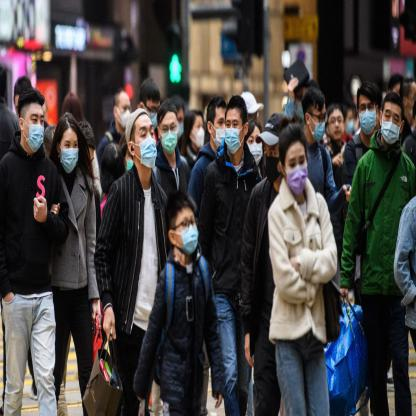Not_Wearing_Mask: (328, 112, 343, 139)
Wearing_Mask: (135, 122, 158, 169), (284, 151, 308, 194), (176, 213, 198, 253), (25, 110, 45, 152), (380, 106, 400, 147), (60, 137, 79, 175), (224, 116, 242, 154), (261, 145, 279, 182), (358, 98, 376, 135), (160, 118, 177, 153), (246, 132, 263, 166), (311, 109, 326, 141), (145, 102, 160, 131), (212, 114, 225, 147), (117, 101, 131, 131), (190, 121, 205, 148), (344, 114, 354, 136)
